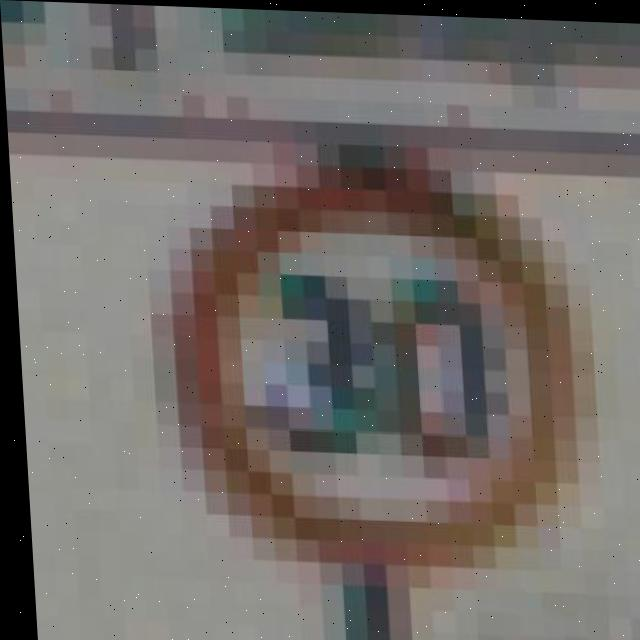Speed limit 30: (142, 137, 590, 573)
